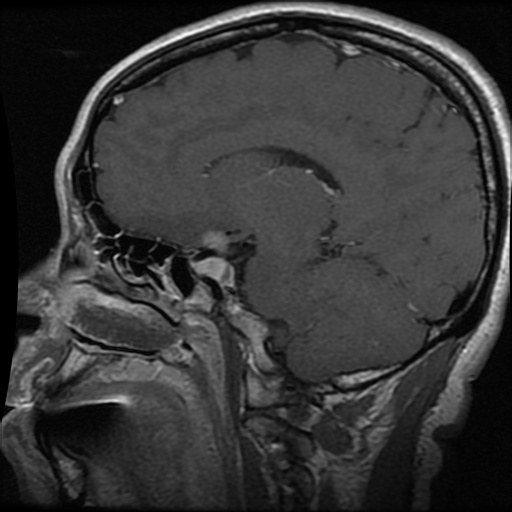pituitary: (191, 257, 235, 285)
